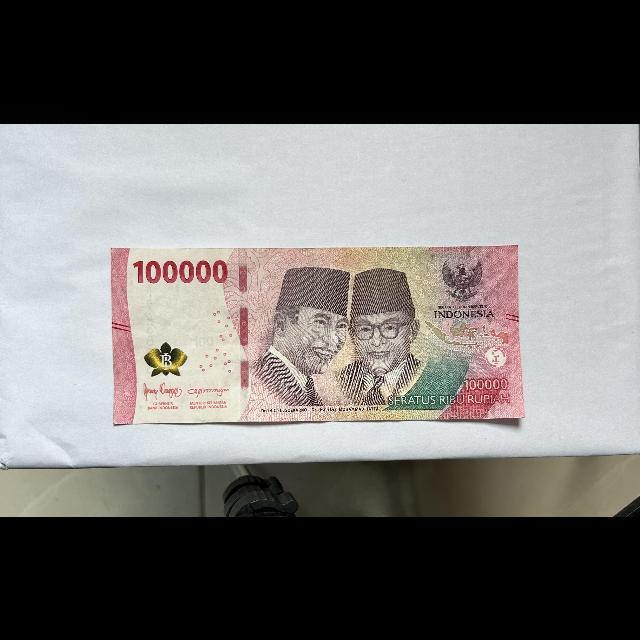Asli-100k: (109, 241, 527, 427)
Tinta-Asli-100k: (144, 340, 189, 377)
